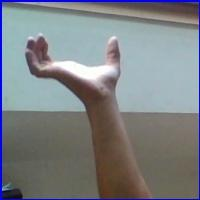space: (19, 28, 131, 101)
